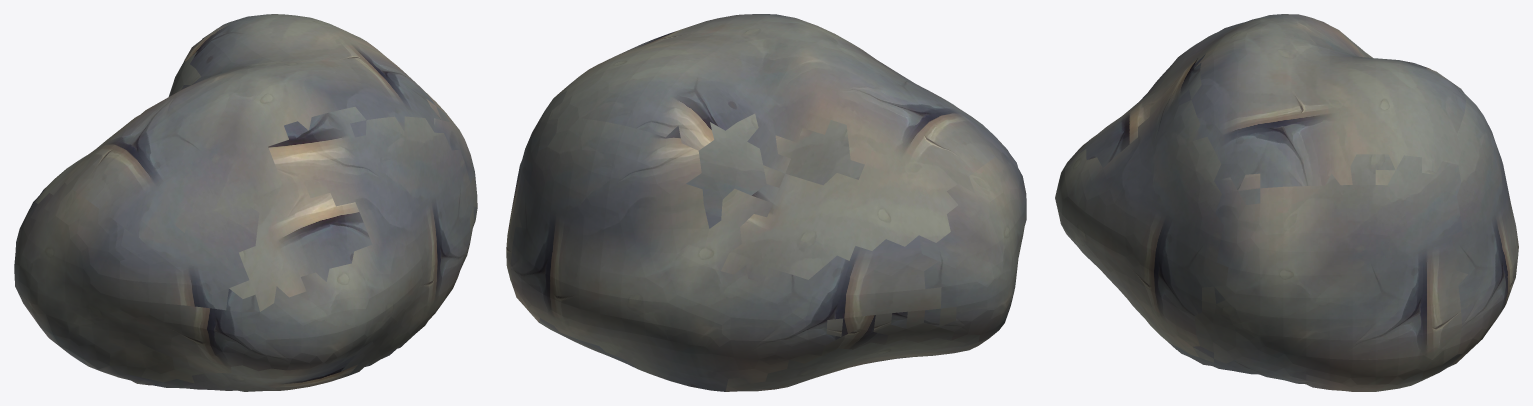
Rendered from boulder1_s31862.gltf.
The picture shows the model from 3 angles, left to right: view 1: azimuth 30°, elevation 25°; view 2: azimuth 150°, elevation 25°; view 3: azimuth 270°, elevation 25°; orthographic projection. The views are drawn at different scales.
Parts seen in each view (by area): view 1: boulder1_s31862_stone_LOD0; view 2: boulder1_s31862_stone_LOD0; view 3: boulder1_s31862_stone_LOD0.
Boxes of the visible parts, bbox=[...] form: boulder1_s31862_stone_LOD0: bbox=[14, 14, 477, 391]; boulder1_s31862_stone_LOD0: bbox=[506, 14, 1026, 391]; boulder1_s31862_stone_LOD0: bbox=[1055, 14, 1518, 391].
Size of what is drawn, in the model's own units: 2.78 by 1.69 by 2.53.
1 material, 1 textured.
